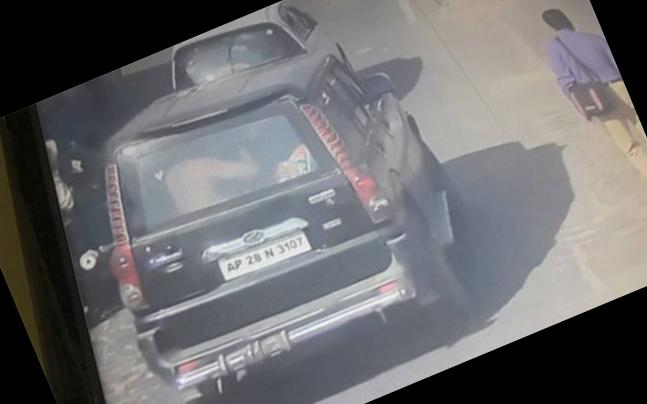plate: (202, 204, 327, 301)
